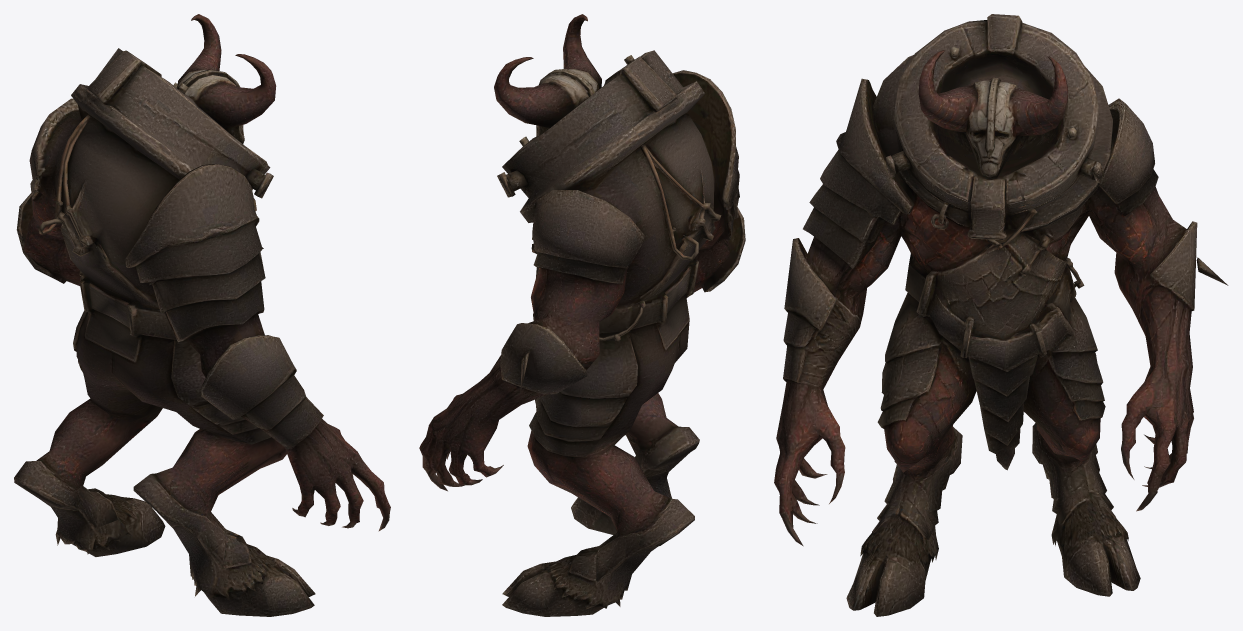
Rendered from model_url.glb.
3 views of the same model, side by side, from view 1: azimuth 30°, elevation 25°; view 2: azimuth 150°, elevation 25°; view 3: azimuth 270°, elevation 25° (orthographic). The views are drawn at different scales.
Visible parts, largest first — view 1: tripo_node_da71c082-9316-45ff-a36c-ce75cb759a3a; view 2: tripo_node_da71c082-9316-45ff-a36c-ce75cb759a3a; view 3: tripo_node_da71c082-9316-45ff-a36c-ce75cb759a3a.
Boxes of the visible parts, x1,y1,x2,y2 form: tripo_node_da71c082-9316-45ff-a36c-ce75cb759a3a: (14,14,390,616); tripo_node_da71c082-9316-45ff-a36c-ce75cb759a3a: (419,14,745,616); tripo_node_da71c082-9316-45ff-a36c-ce75cb759a3a: (774,14,1228,616).
Bounding box in the file's own units: 0.4749 × 0.998 × 0.7572.
Materials: 1 (1 with a texture image).
